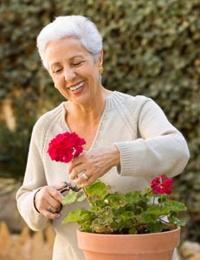person: (16, 12, 191, 259)
